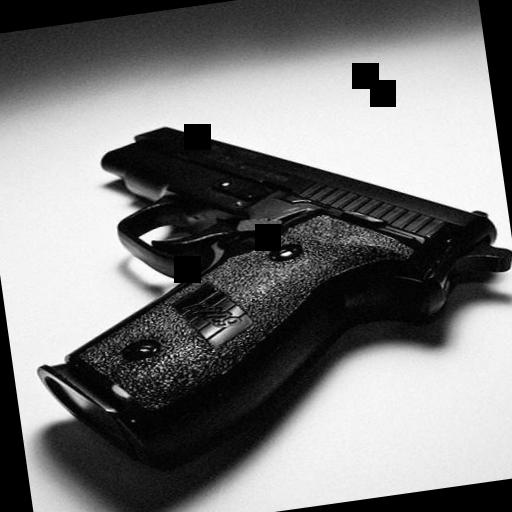Handgun: (6, 78, 512, 482)
